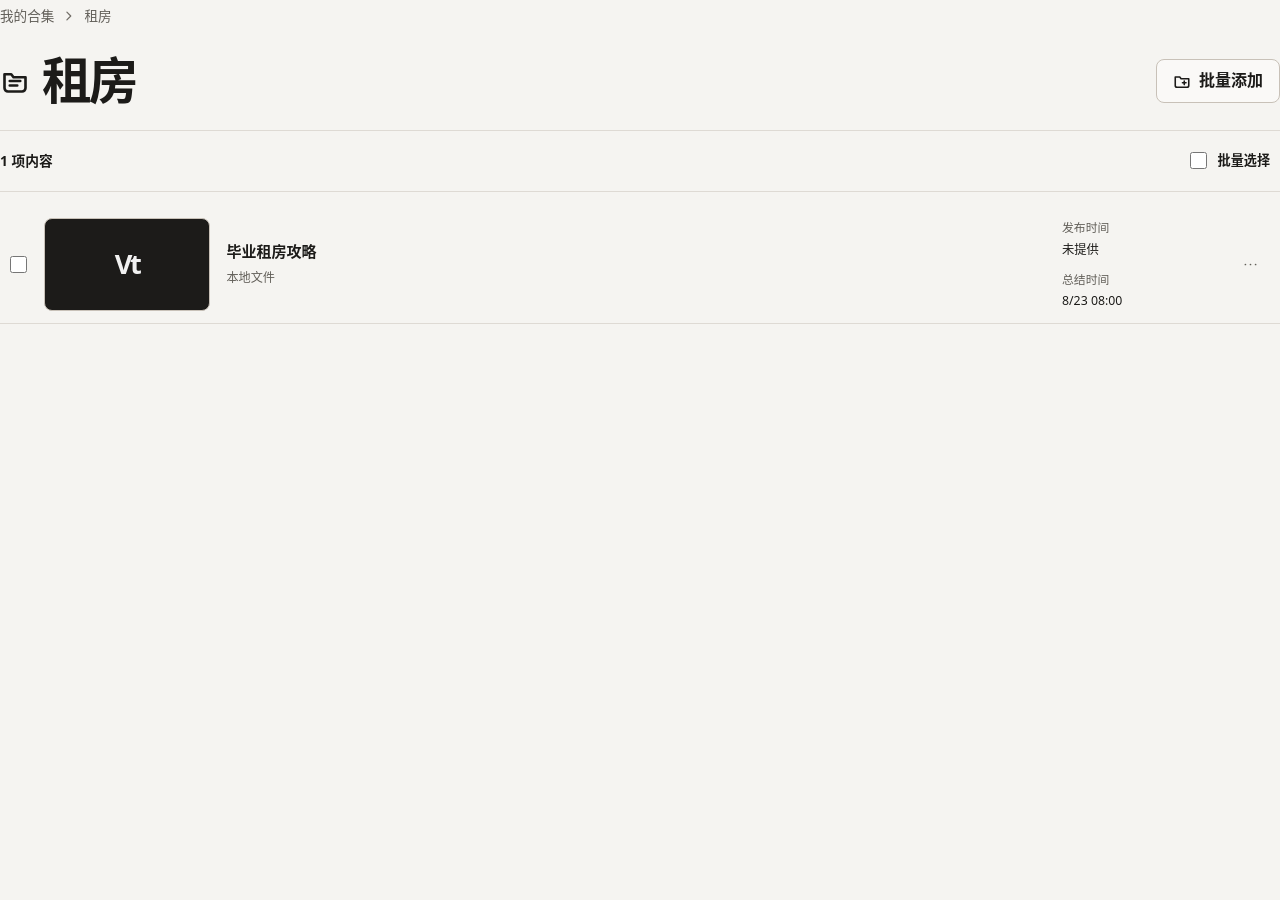
it: CollectionDetailPage › renders a dedicated collection page instead of the summary-record scope
Expected: the heading "租房" is shown, [42, 56, 136, 106]
Expected: the text "1 项内容" is shown, [0, 150, 53, 171]
Click the button "批量添加". click: (1218, 81)
box: [1156, 59, 1279, 103]
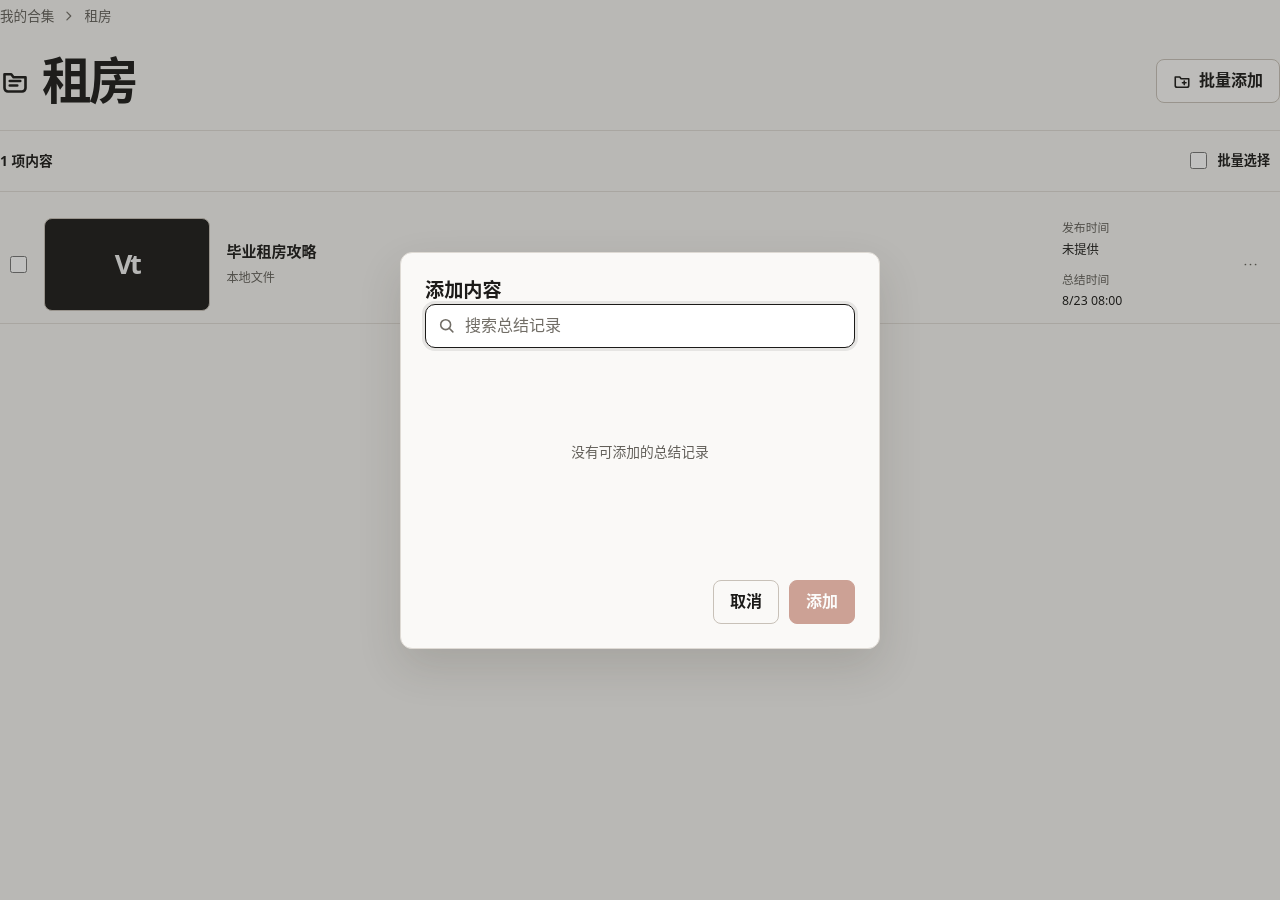
Expected: the heading "添加内容" is shown, [425, 276, 502, 303]
